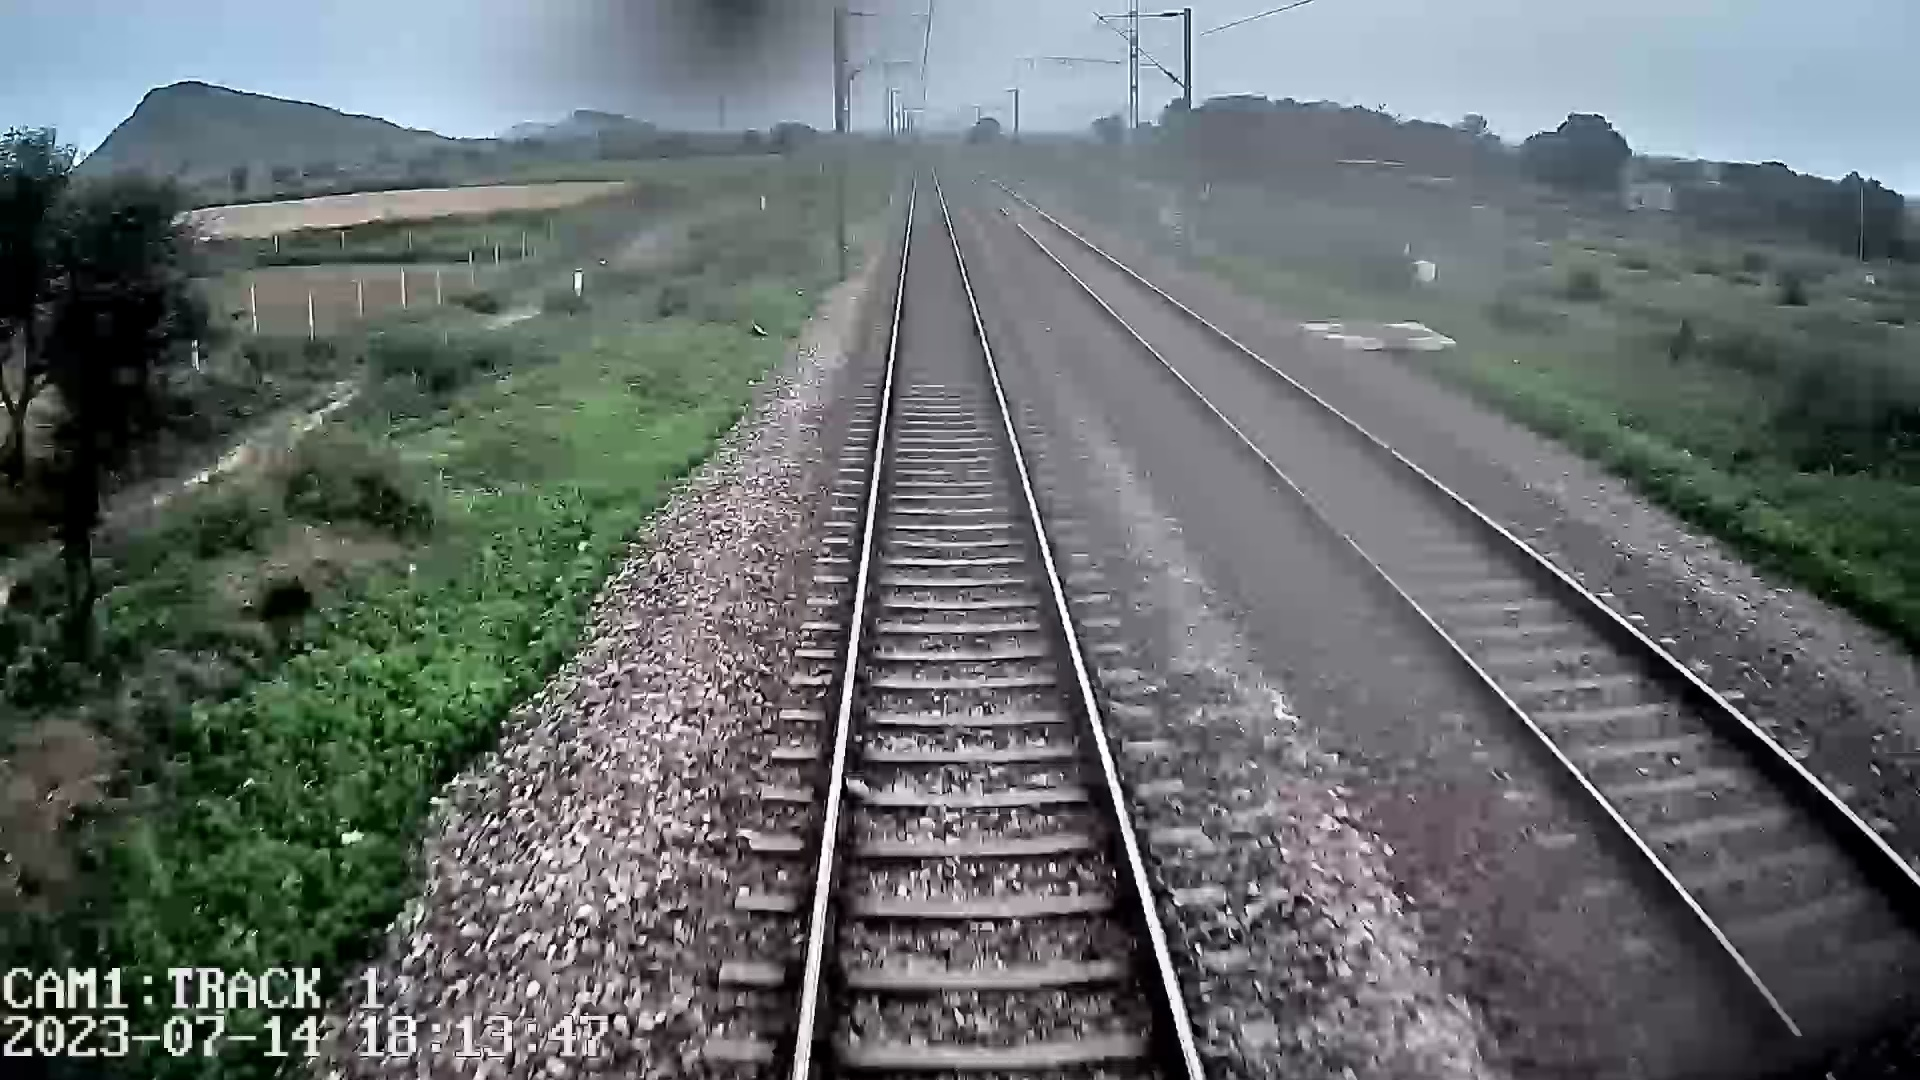track1: (803, 170, 1199, 1073)
track2: (1001, 212, 1919, 1021)
